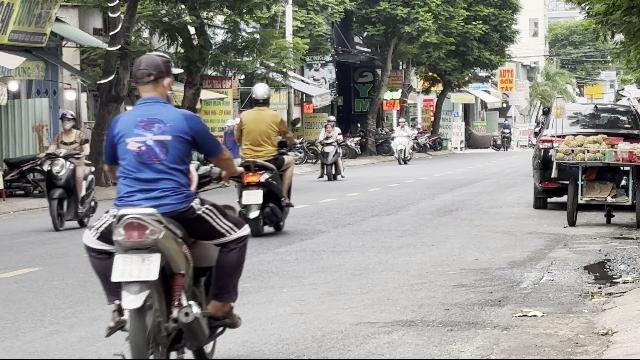helmet: (250, 82, 272, 108), (59, 110, 77, 130)
licenseplate: (112, 253, 158, 281), (242, 190, 262, 204)
motorcyclist: (76, 50, 256, 358), (230, 81, 298, 236), (40, 109, 96, 231)
nohelmet: (128, 53, 176, 103)
